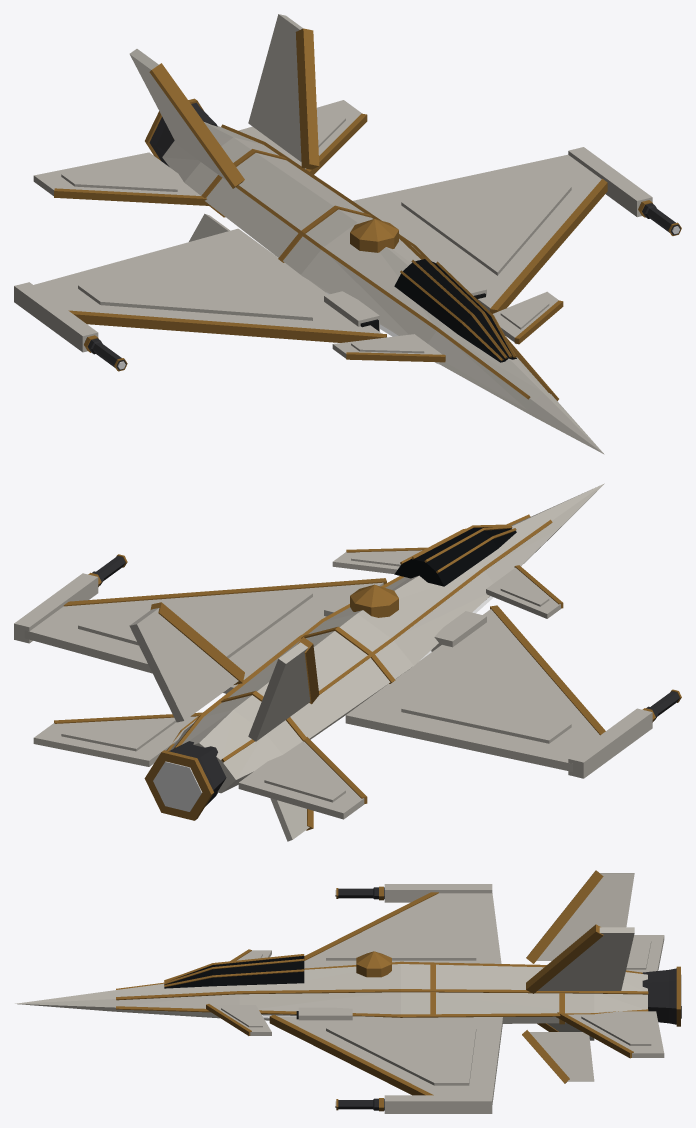
Rendered from fighter_t2.glb.
3 views of the same model, one above another, from view 1: azimuth 30°, elevation 25°; view 2: azimuth 150°, elevation 25°; view 3: azimuth 270°, elevation 25° (orthographic). The views are drawn at different scales.
Parts seen in each view (by area): view 1: body; view 2: body; view 3: body.
Part boxes in pixels (x1,y1,x2,y2): body: (14,14,681,454); body: (14,483,681,841); body: (15,870,681,1113).
Bounding box in the file's own units: 10.52 × 3.75 × 13.67.
